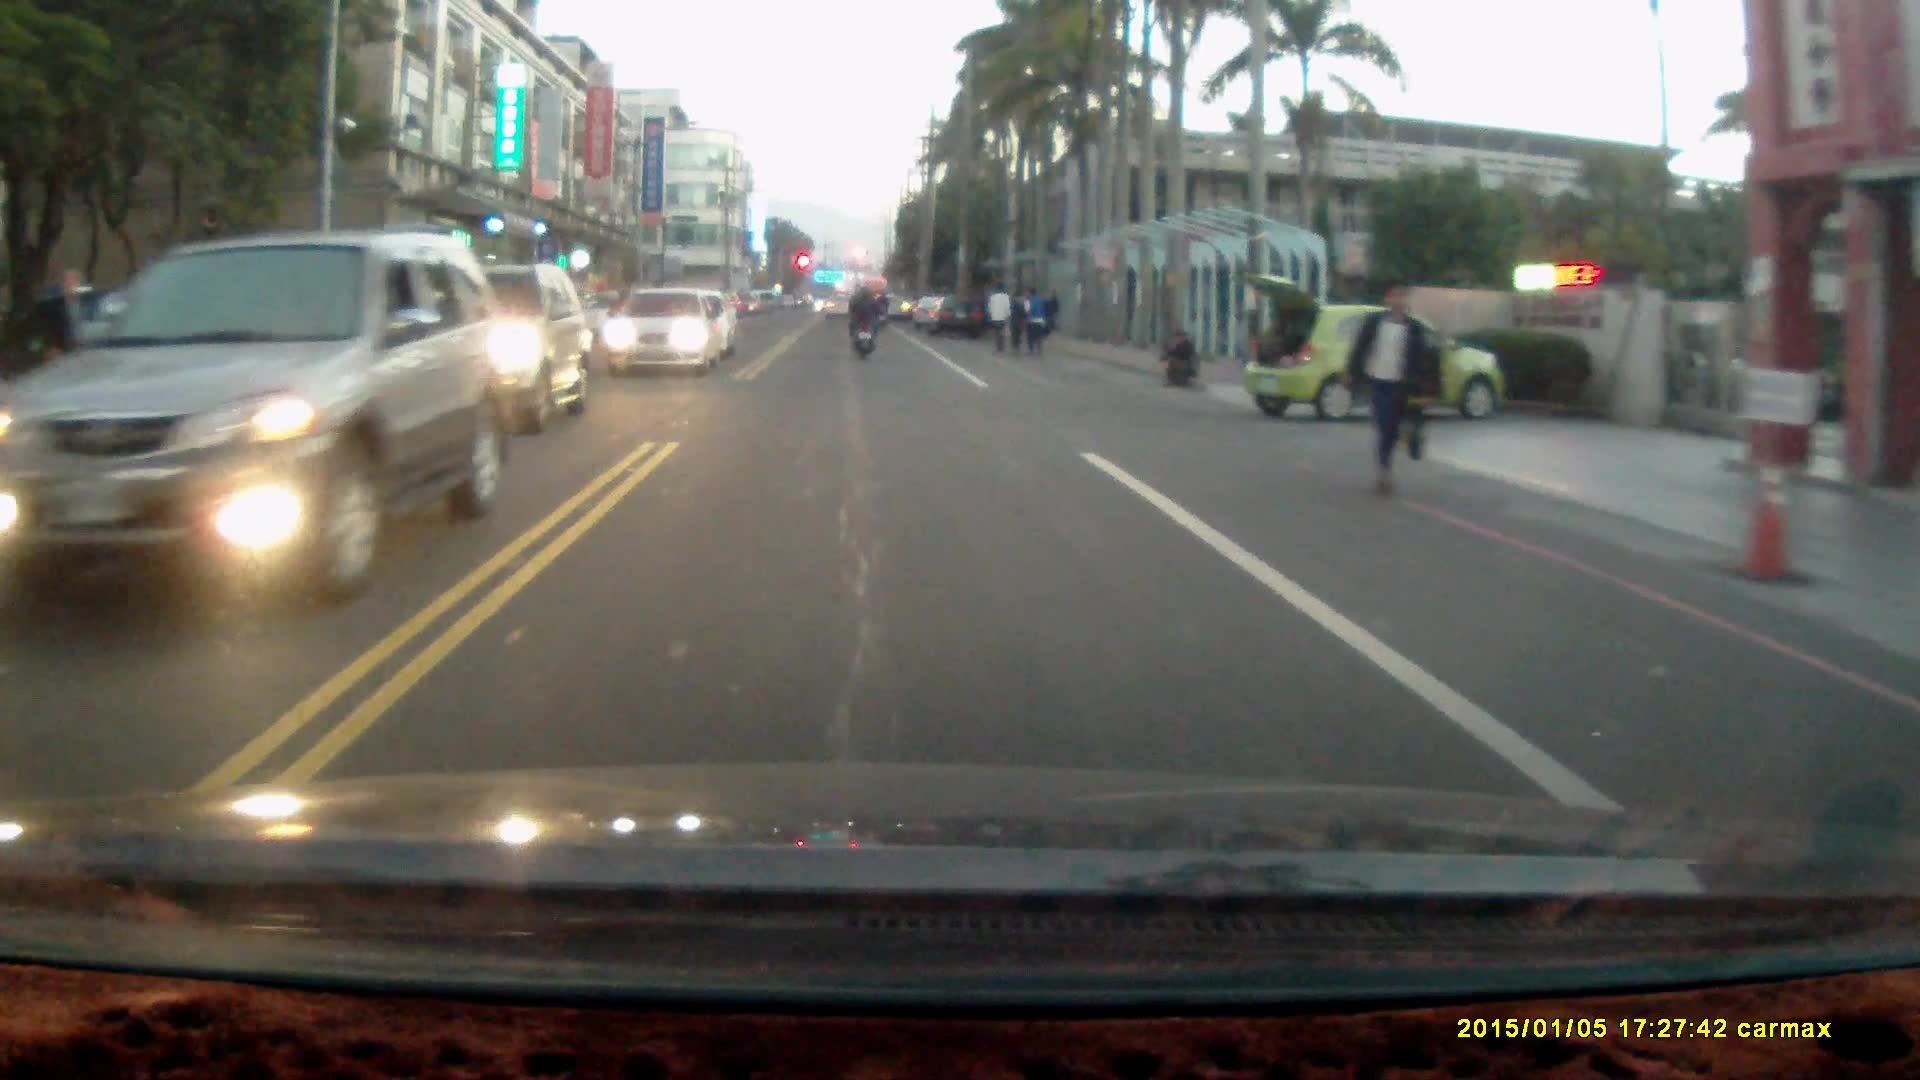pedestrian: (1344, 277, 1435, 505), (1159, 323, 1198, 387), (1020, 281, 1049, 358), (989, 282, 1014, 358), (1005, 285, 1029, 354)
rider: (843, 280, 881, 357)
vehicle: (12, 228, 503, 613), (1237, 268, 1506, 421), (367, 259, 597, 437), (607, 282, 720, 372), (932, 294, 989, 339)
